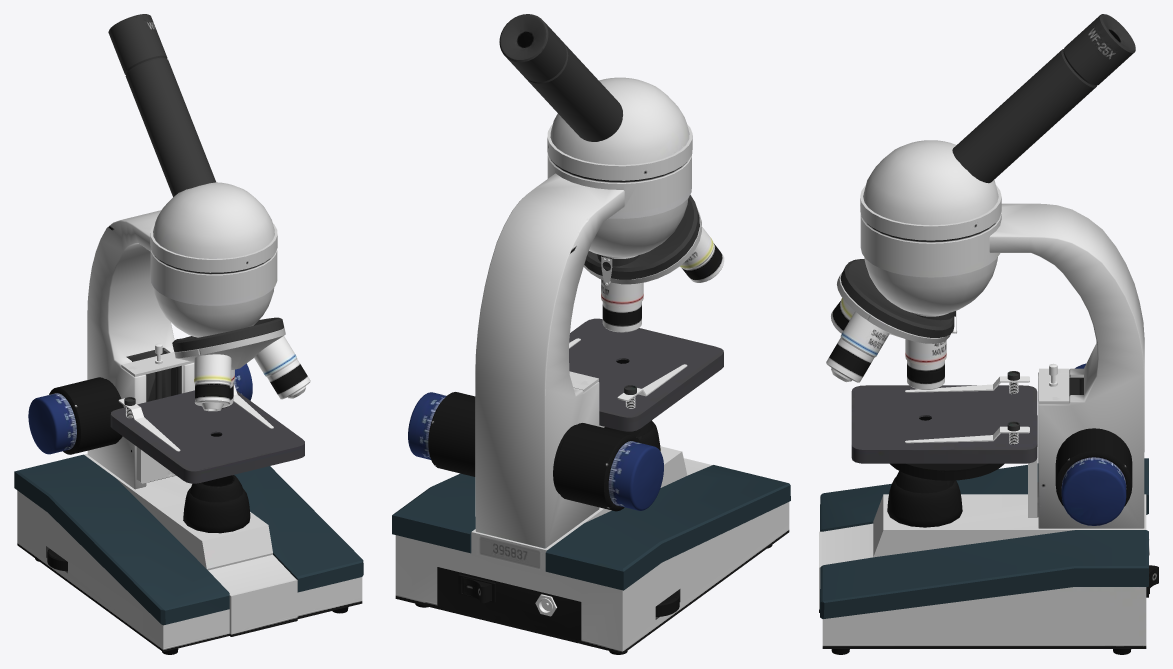
The model's file is microscope.glb.
3 renders of one model, left to right at view 1: azimuth 30°, elevation 25°; view 2: azimuth 150°, elevation 25°; view 3: azimuth 270°, elevation 25°, orthographic. The views are drawn at different scales.
Parts seen in each view (by area): view 1: Microscope_Microscope_0; view 2: Microscope_Microscope_0; view 3: Microscope_Microscope_0.
Part boxes in pixels (bbox=[...]): Microscope_Microscope_0: bbox=[14, 14, 363, 654]; Microscope_Microscope_0: bbox=[392, 14, 790, 654]; Microscope_Microscope_0: bbox=[819, 14, 1158, 654].
Bounding box in the file's own units: 13.46 × 32.73 × 17.15.
Materials: 1 (1 with a texture image).
